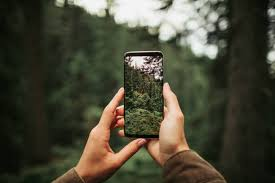phone: (118, 44, 170, 145)
